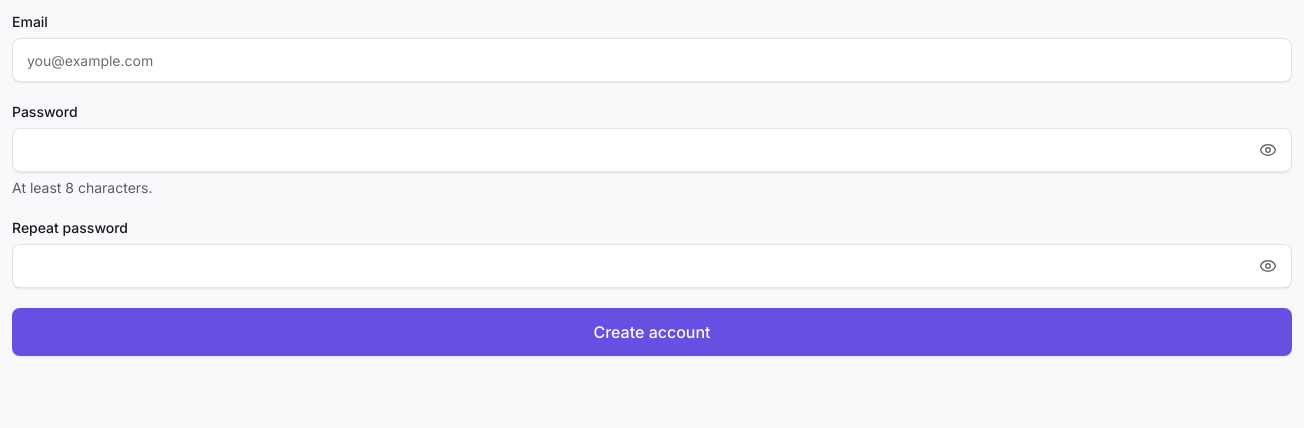
Test: SignupForm › offers to log in instead when the email is taken, keeping next
Step 1. Type "jane@example.com" into the field labelled "Email" → (652, 60), box [12,38,1292,82]
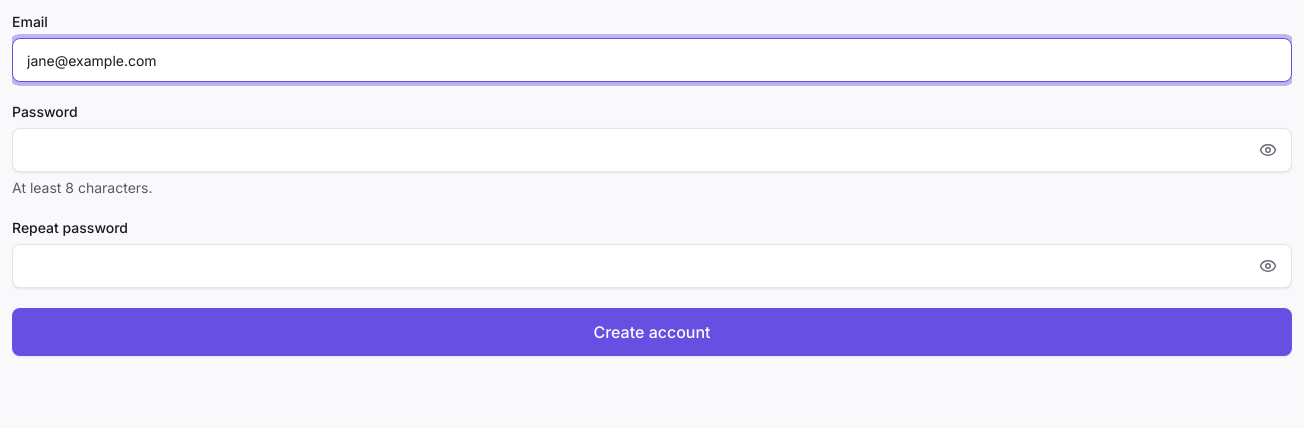
Step 2. Type "long-enough-password" into the password field labelled "Password" → (652, 150), box [12,128,1292,172]
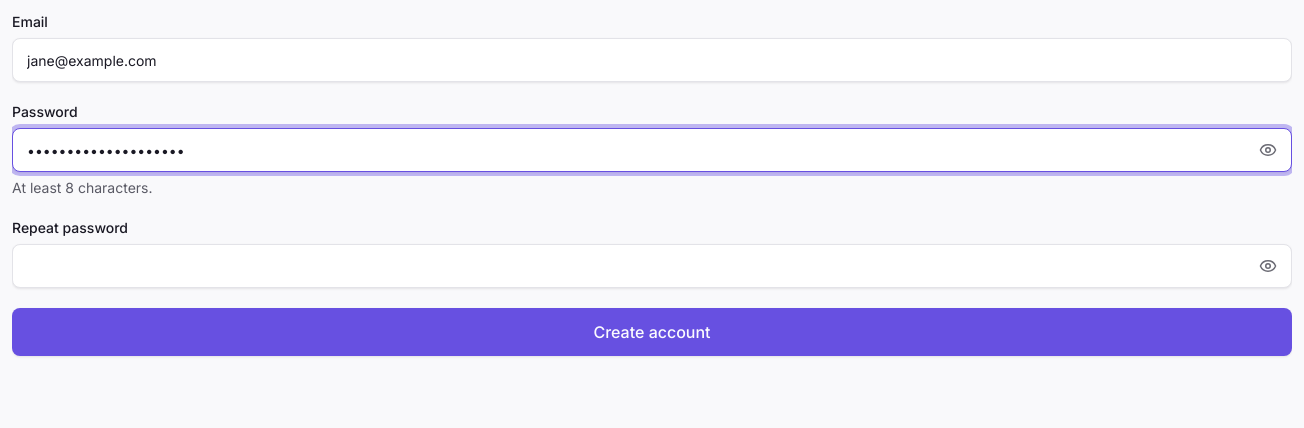
Step 3. Type "long-enough-password" into the password field labelled "Repeat password" → (652, 266), box [12,244,1292,288]
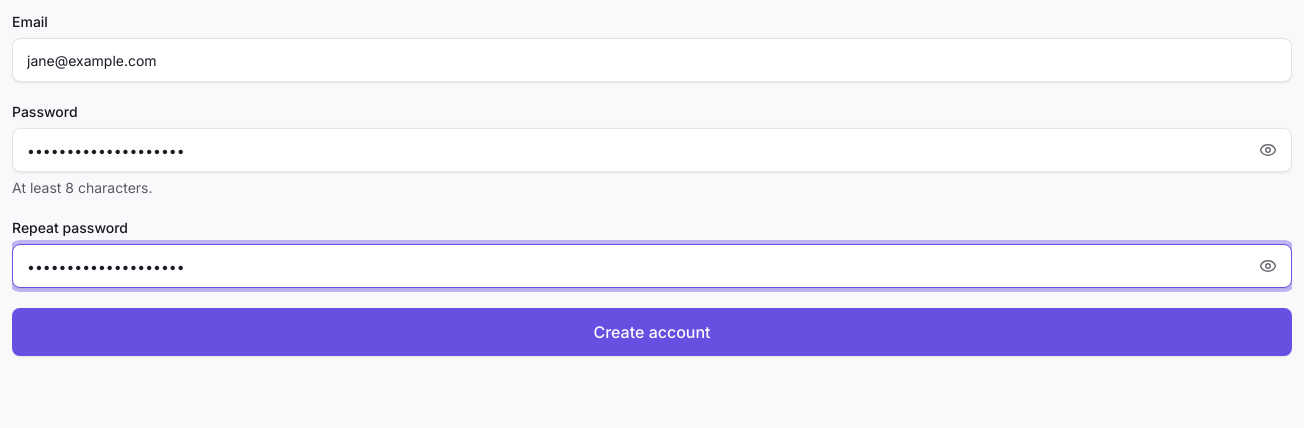
Step 4. Click the button "Create account" → (652, 332), box [12,308,1292,356]
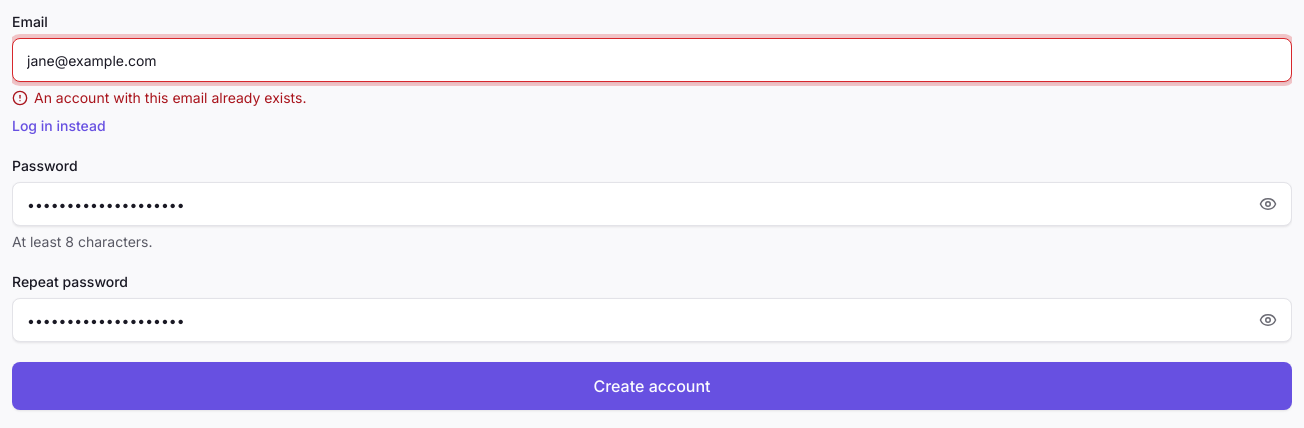
Result: the text "An account with this email already exists." is shown at [34,88,306,108]
